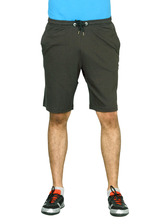clothoes: (37, 16, 133, 116)
shoes: (96, 184, 138, 220), (40, 183, 72, 216)
